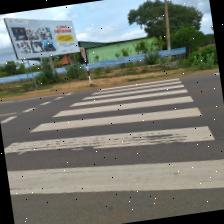crossing: (0, 69, 224, 218), (7, 139, 224, 219), (4, 114, 216, 170), (28, 100, 203, 140), (51, 92, 195, 122), (68, 86, 188, 110)
